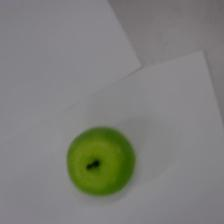green: (66, 127, 135, 196)
